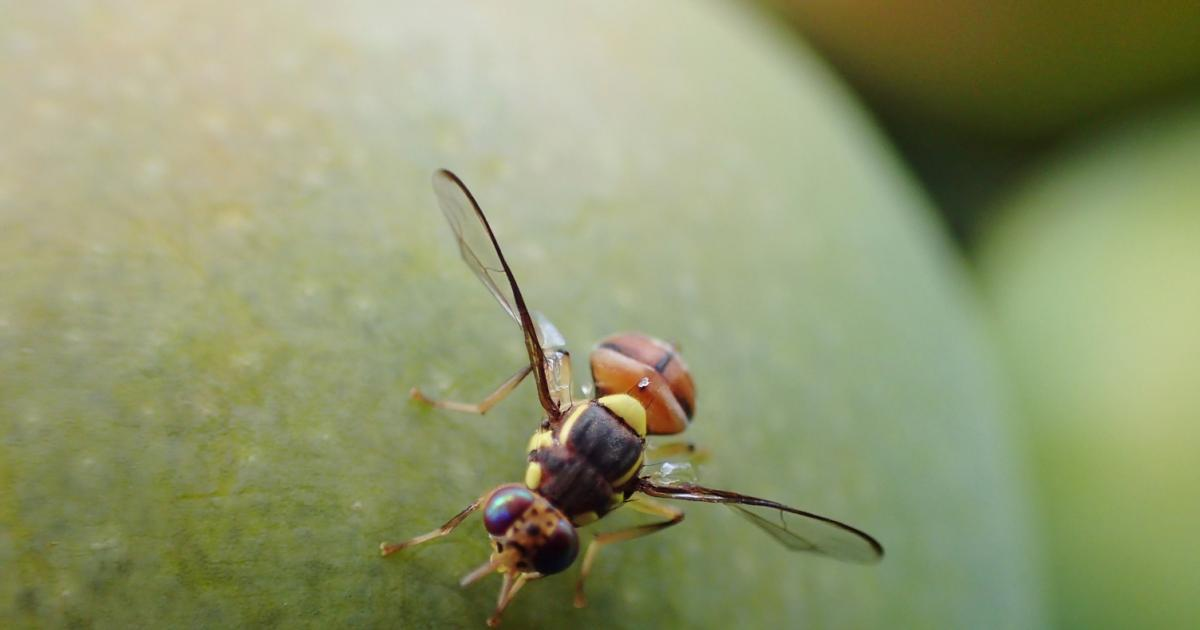Fruit fly: (399, 225, 791, 630)
